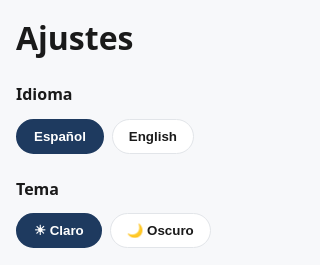
SettingsPage › cambia el idioma al hacer clic en English
The image size is (320, 265).
Click the button "English" at (153, 136), box [112,119,194,154]
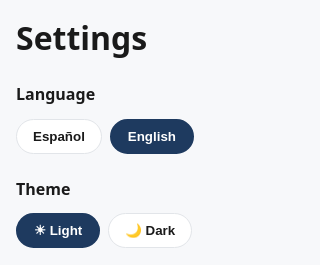
Now the heading "Settings" is shown, box [16,16,147,59]
